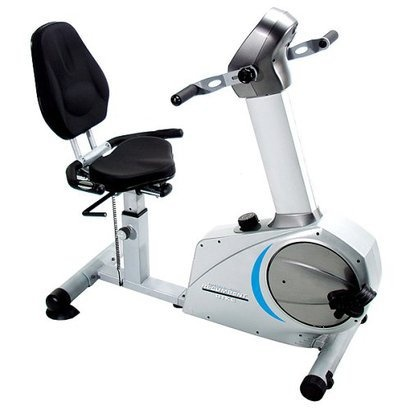gym_bike: (28, 7, 386, 394)
